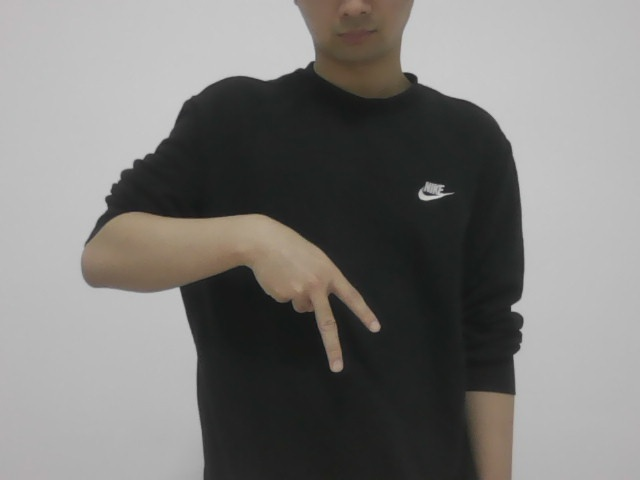walk: (223, 202, 390, 378)
